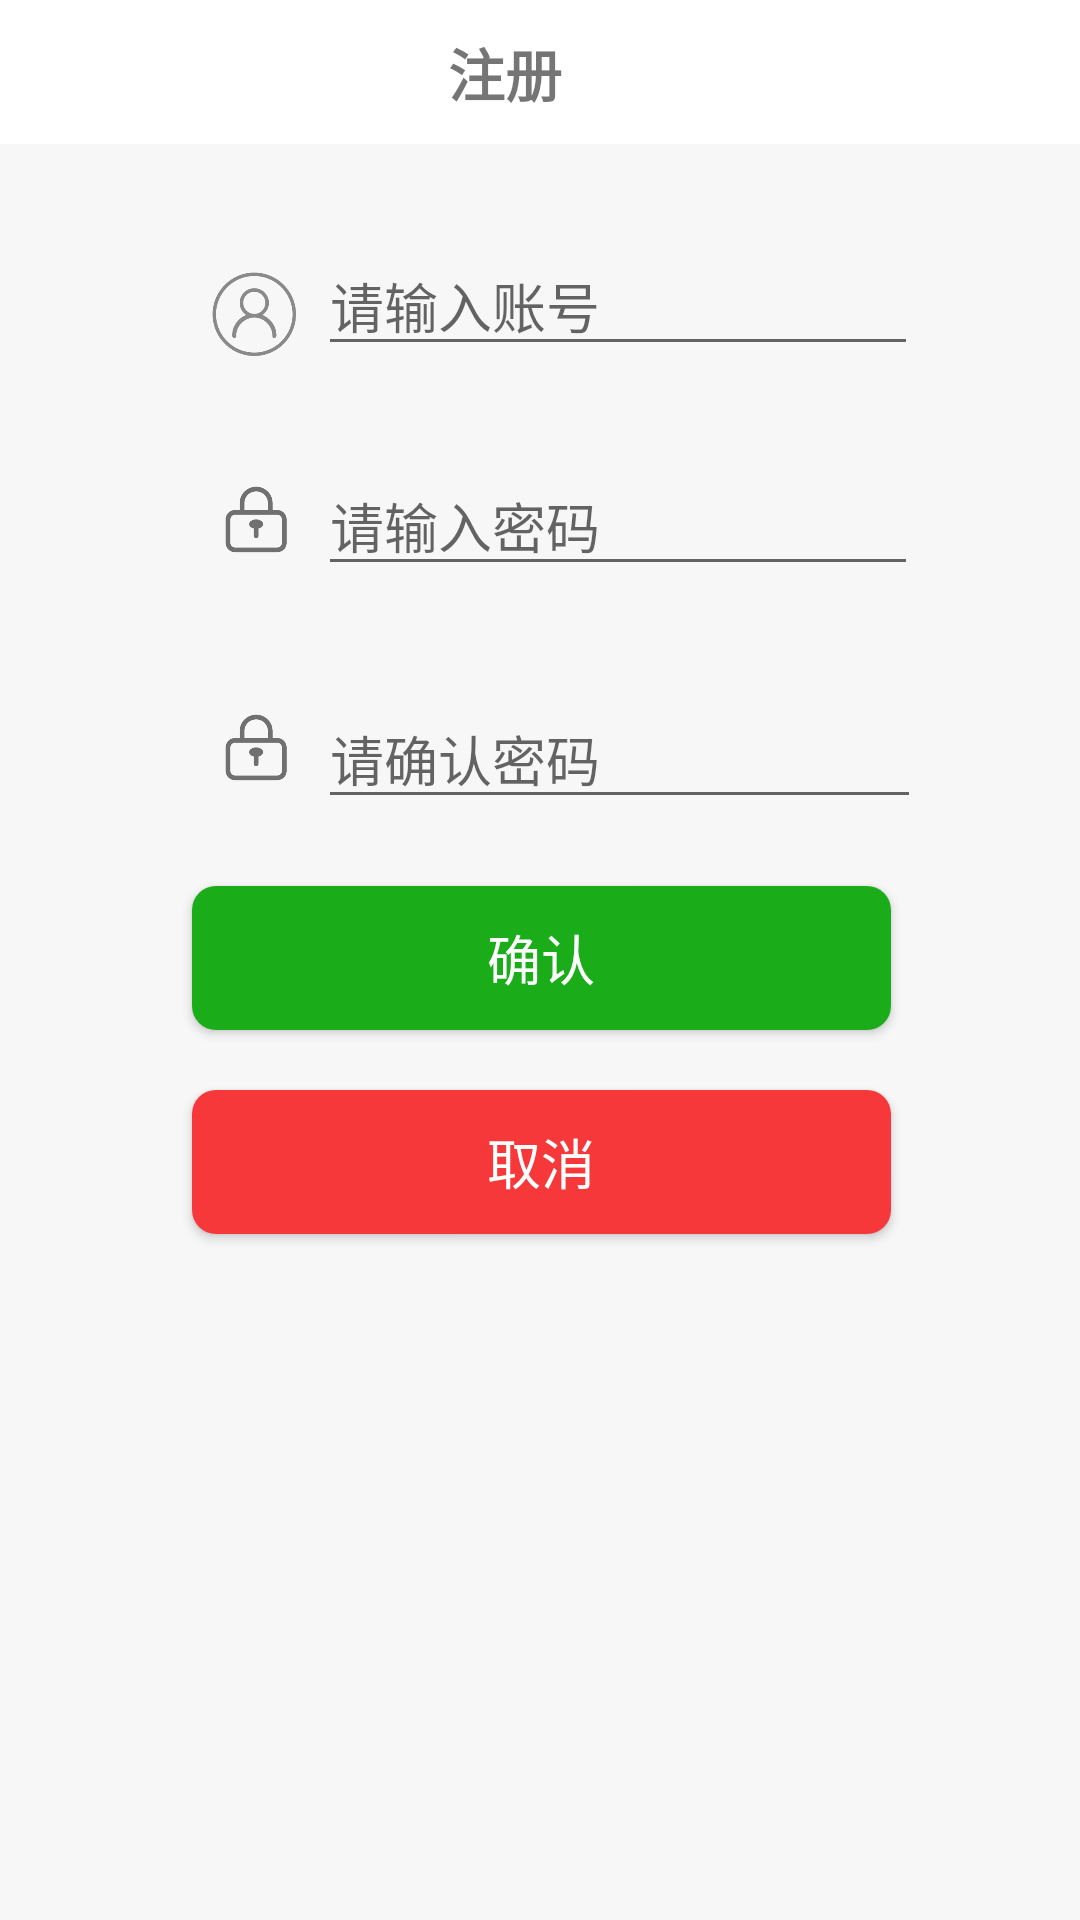

Icon click points for this 1080×1920 phone screenshot, format point (x, y):
account: point (254, 314)
passed iccon: point (256, 519), point (256, 747)
